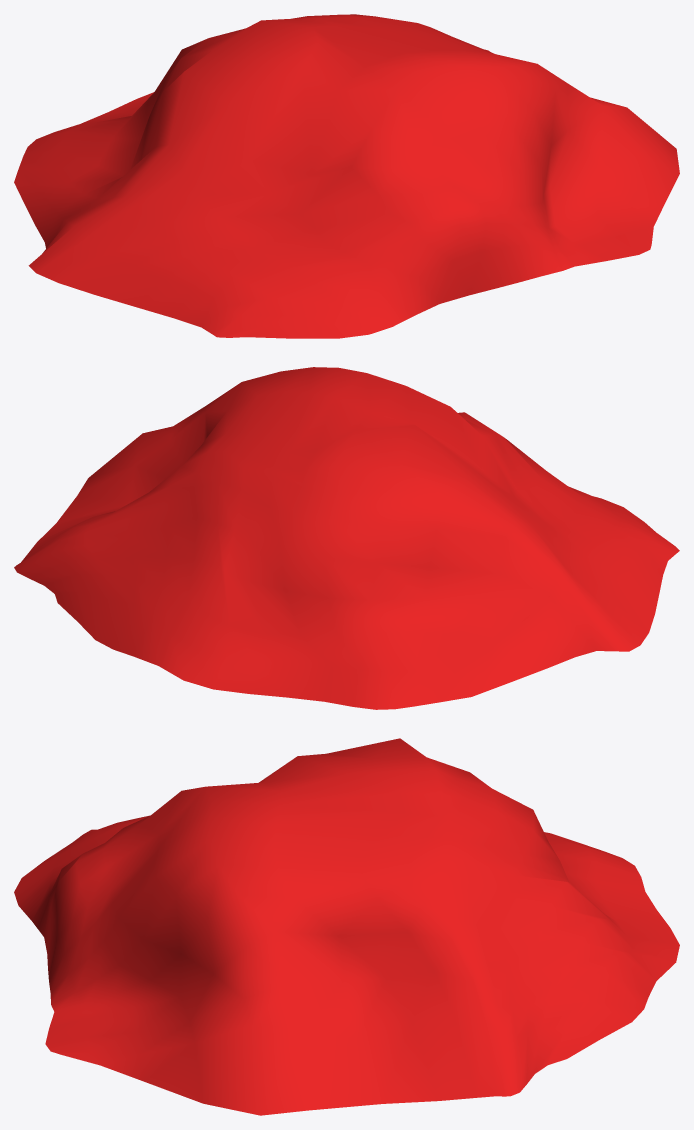
Rendered from Pile_3_v1.FBX.
The picture shows the model from 3 angles, top to bottom: view 1: azimuth 30°, elevation 25°; view 2: azimuth 150°, elevation 25°; view 3: azimuth 270°, elevation 25°; orthographic projection. The views are drawn at different scales.
Visible parts, largest first — view 1: pile_3; view 2: pile_3; view 3: pile_3.
Part boxes in pixels (box(x1,y1,x2,y2)): pile_3: box(14, 14, 679, 338); pile_3: box(14, 367, 679, 709); pile_3: box(14, 738, 679, 1115).
Size of the model in its own units: 375 by 93.83 by 325.
